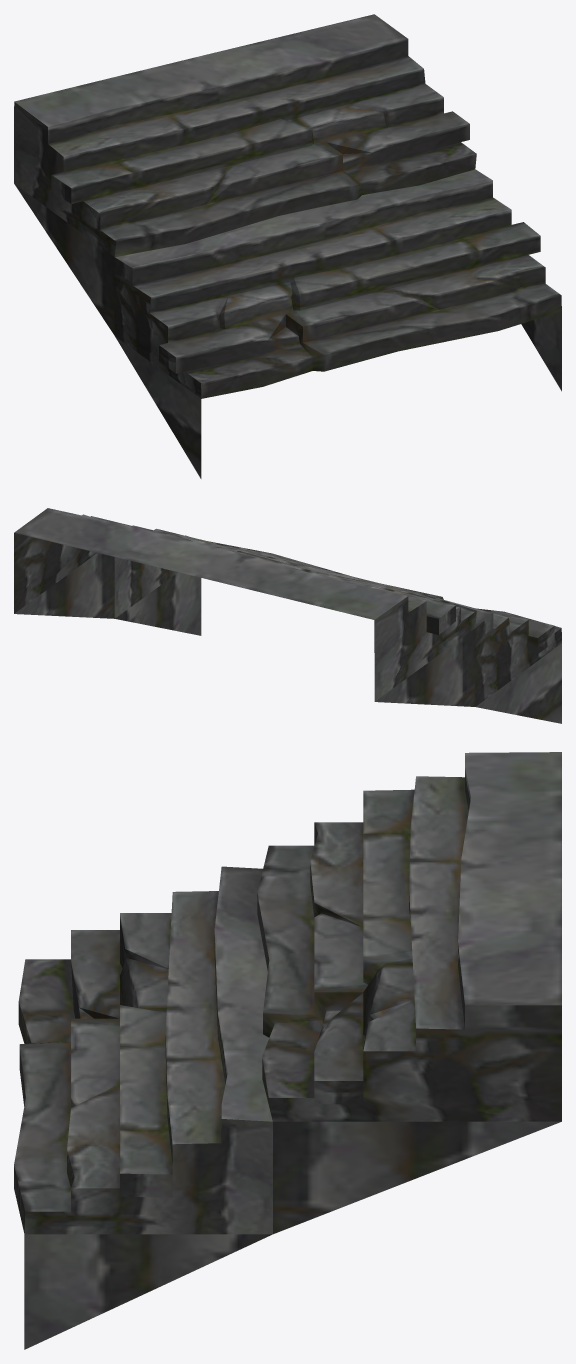
File: tlfb_shiti.FBX
The picture shows the model from 3 angles, top to bottom: view 1: azimuth 30°, elevation 25°; view 2: azimuth 150°, elevation 25°; view 3: azimuth 270°, elevation 25°; orthographic projection. The views are drawn at different scales.
Parts seen in each view (by area): view 1: tlfb_shiti; view 2: tlfb_shiti; view 3: tlfb_shiti.
Part boxes in pixels (left/top/right/bottom): tlfb_shiti: left=14, top=14, right=561, bottom=478; tlfb_shiti: left=14, top=508, right=561, bottom=723; tlfb_shiti: left=14, top=752, right=561, bottom=1349.
Bounding box in the file's own units: 255 × 152 × 218.
